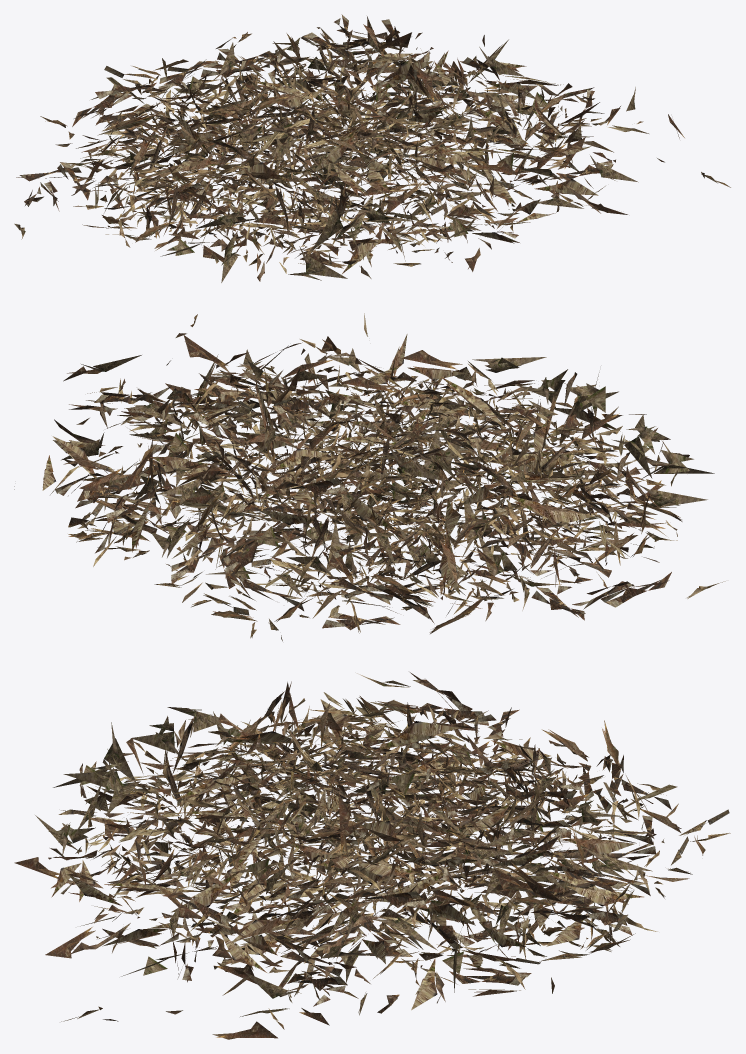
File: debris_sticks.glb
The picture shows the model from 3 angles, top to bottom: view 1: azimuth 30°, elevation 25°; view 2: azimuth 150°, elevation 25°; view 3: azimuth 270°, elevation 25°; orthographic projection. The views are drawn at different scales.
Parts seen in each view (by area): view 1: pile_of_stick_stick01_LOD4_0, pile_of_stick_stick06_LOD4_0, pile_of_stick_stick07_LOD4_0, pile_of_stick_stick17_LOD4_0, pile_of_stick_stick08_LOD4_0, pile_of_stick_stick19_LOD4_0, pile_of_stick_stick15_LOD4_0, pile_of_stick_stick10_LOD4_0, pile_of_stick_stick05_LOD4_0, pile_of_stick_stick11_LOD4_0, pile_of_stick_stick03_LOD4_0, pile_of_stick_stick09_LOD4_0 (+8 smaller); view 2: pile_of_stick_stick06_LOD4_0, pile_of_stick_stick01_LOD4_0, pile_of_stick_stick07_LOD4_0, pile_of_stick_stick17_LOD4_0, pile_of_stick_stick19_LOD4_0, pile_of_stick_stick08_LOD4_0, pile_of_stick_stick15_LOD4_0, pile_of_stick_stick10_LOD4_0, pile_of_stick_stick03_LOD4_0, pile_of_stick_stick05_LOD4_0, pile_of_stick_stick11_LOD4_0, pile_of_stick_stick09_LOD4_0 (+8 smaller); view 3: pile_of_stick_stick01_LOD4_0, pile_of_stick_stick06_LOD4_0, pile_of_stick_stick07_LOD4_0, pile_of_stick_stick17_LOD4_0, pile_of_stick_stick19_LOD4_0, pile_of_stick_stick08_LOD4_0, pile_of_stick_stick15_LOD4_0, pile_of_stick_stick11_LOD4_0, pile_of_stick_stick03_LOD4_0, pile_of_stick_stick05_LOD4_0, pile_of_stick_stick10_LOD4_0, pile_of_stick_stick09_LOD4_0 (+8 smaller).
Boxes of the visible parts, x1,y1,x2,y2 form: pile_of_stick_stick01_LOD4_0: (81,16,598,273); pile_of_stick_stick06_LOD4_0: (114,38,638,282); pile_of_stick_stick07_LOD4_0: (16,14,613,239); pile_of_stick_stick17_LOD4_0: (84,29,684,271); pile_of_stick_stick08_LOD4_0: (69,44,603,278); pile_of_stick_stick19_LOD4_0: (40,33,613,242); pile_of_stick_stick15_LOD4_0: (149,31,704,264); pile_of_stick_stick10_LOD4_0: (55,61,572,281); pile_of_stick_stick05_LOD4_0: (97,44,562,259); pile_of_stick_stick11_LOD4_0: (101,33,591,266); pile_of_stick_stick03_LOD4_0: (82,64,582,263); pile_of_stick_stick09_LOD4_0: (95,58,648,273); pile_of_stick_stick06_LOD4_0: (61,348,714,597); pile_of_stick_stick01_LOD4_0: (42,334,661,608); pile_of_stick_stick07_LOD4_0: (55,342,671,630); pile_of_stick_stick17_LOD4_0: (63,335,666,586); pile_of_stick_stick19_LOD4_0: (68,369,682,633); pile_of_stick_stick08_LOD4_0: (63,349,637,596); pile_of_stick_stick15_LOD4_0: (14,333,646,566); pile_of_stick_stick10_LOD4_0: (100,352,689,621); pile_of_stick_stick03_LOD4_0: (143,373,659,615); pile_of_stick_stick05_LOD4_0: (50,380,640,602); pile_of_stick_stick11_LOD4_0: (76,361,629,641); pile_of_stick_stick09_LOD4_0: (118,372,647,615); pile_of_stick_stick01_LOD4_0: (51,699,643,1010); pile_of_stick_stick06_LOD4_0: (35,707,652,998); pile_of_stick_stick07_LOD4_0: (60,672,671,1006); pile_of_stick_stick17_LOD4_0: (14,681,617,1039); pile_of_stick_stick19_LOD4_0: (122,696,705,995); pile_of_stick_stick08_LOD4_0: (58,707,596,1003); pile_of_stick_stick15_LOD4_0: (79,728,612,1021); pile_of_stick_stick11_LOD4_0: (58,699,729,1015); pile_of_stick_stick03_LOD4_0: (88,691,639,990); pile_of_stick_stick05_LOD4_0: (86,709,657,989); pile_of_stick_stick10_LOD4_0: (50,710,565,983); pile_of_stick_stick09_LOD4_0: (87,692,677,1016).
Size of what is drawn, in the model's own units: 354 by 53.73 by 294.
20 materials, 20 textured.
